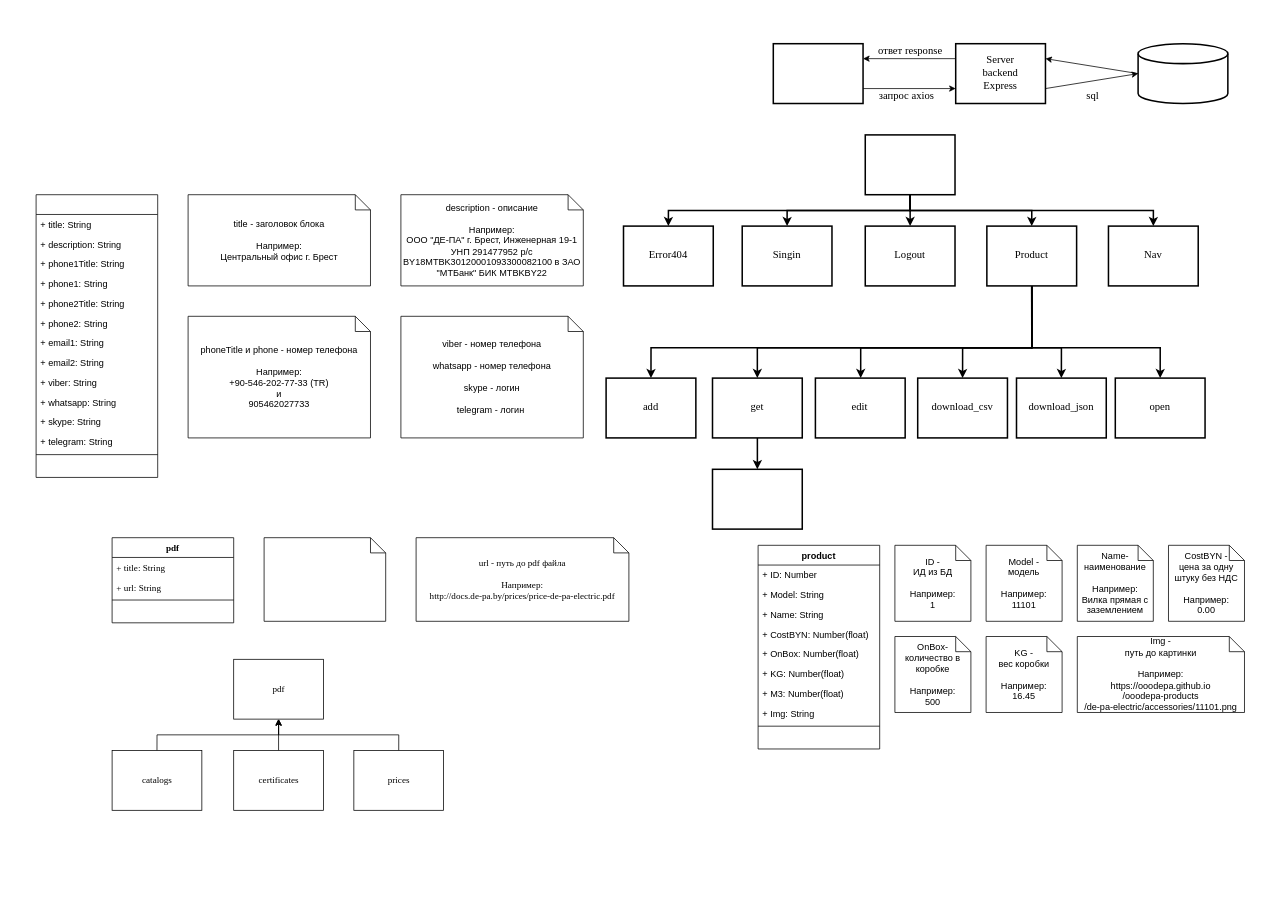
Some shapes in this 1284 by 914 pixel diagram are drawn without their labels. Here are the shapes that lost their labels. From the top down, the box of each, then its label:
(772, 43, 863, 104): Client frontend React
(1137, 43, 1228, 104): database MySQL
(864, 134, 955, 195): App
(35, 194, 158, 477): contacts
(711, 468, 803, 529): delete
(263, 537, 386, 621): title - заголовок Например: Прайс DE-PA Electric
